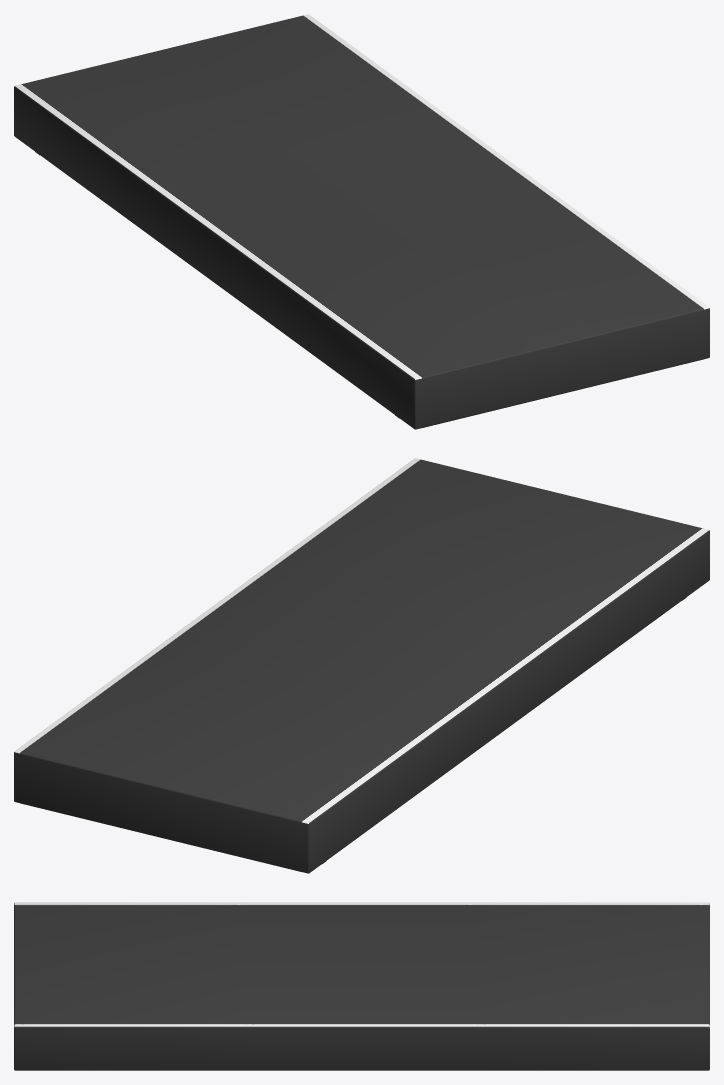
Rendered from PP_steel_podium_platinum.obj.
The picture shows the model from 3 angles, top to bottom: view 1: azimuth 30°, elevation 25°; view 2: azimuth 150°, elevation 25°; view 3: azimuth 270°, elevation 25°; orthographic projection. The views are drawn at different scales.
Parts seen in each view (by area): view 1: pp52_stell; view 2: pp52_stell; view 3: pp52_stell.
Boxes of the visible parts, x1,y1,x2,y2 form: pp52_stell: (14, 14, 709, 429); pp52_stell: (14, 458, 709, 873); pp52_stell: (14, 902, 709, 1070).
Size of the model in its own units: 85 by 15 by 200.
Materials: 2 (1 with a texture image).
